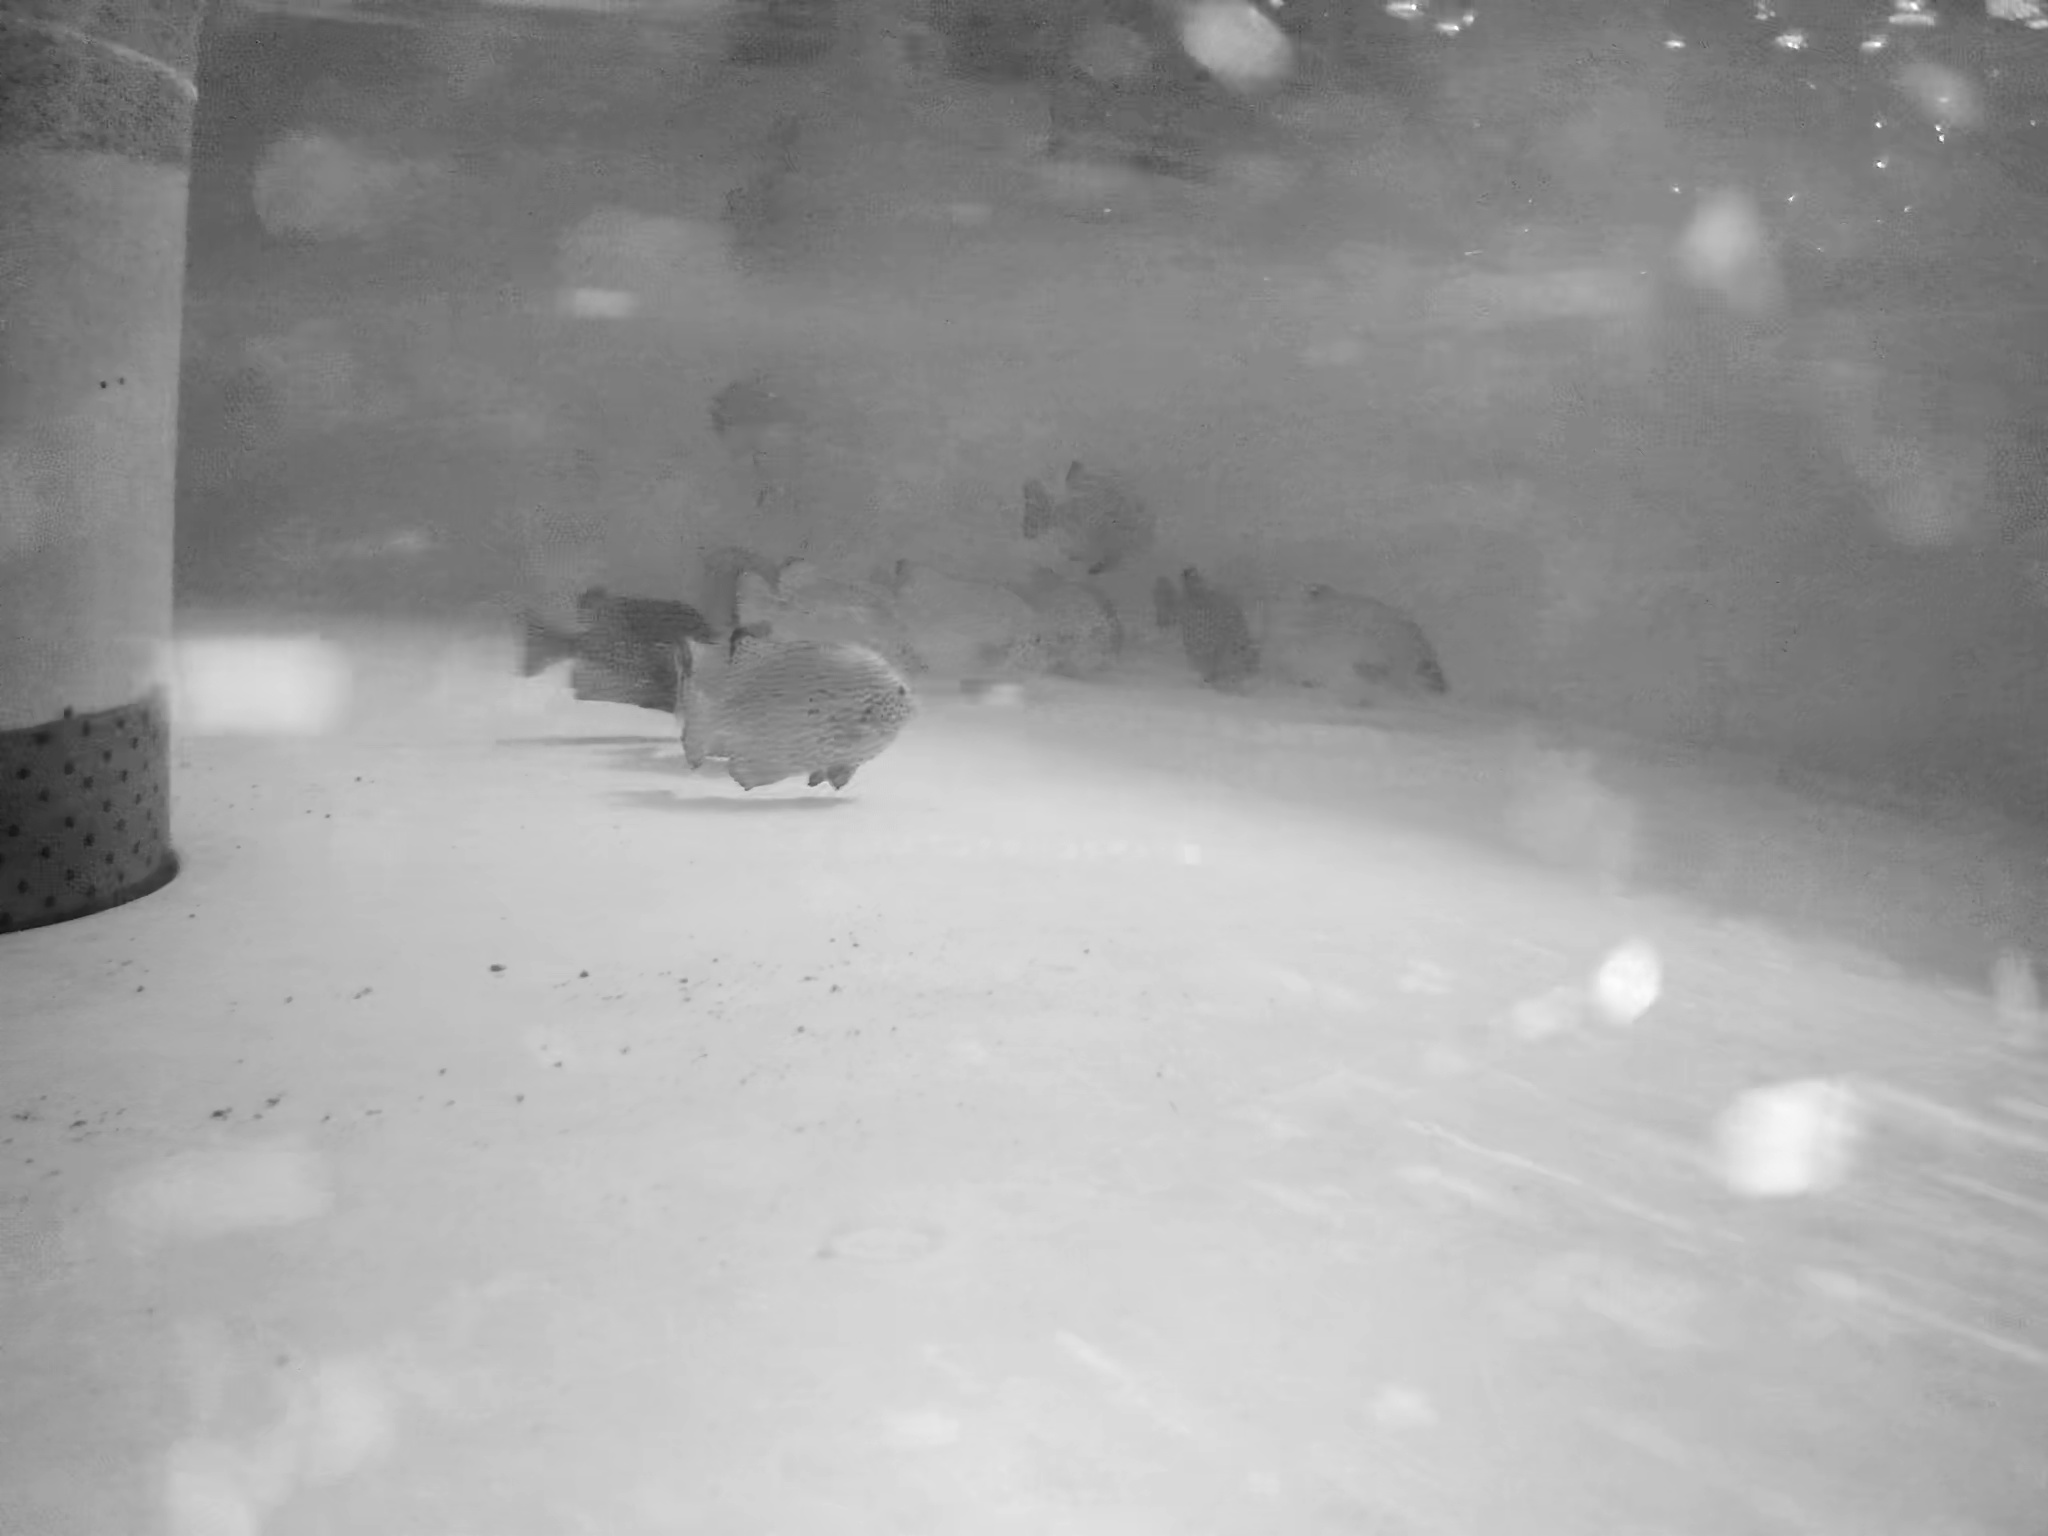fish: (679, 615, 939, 783), (726, 544, 1034, 681), (995, 458, 1234, 600), (500, 592, 739, 708), (1276, 581, 1451, 733), (1159, 560, 1276, 700), (1013, 587, 1130, 686)
